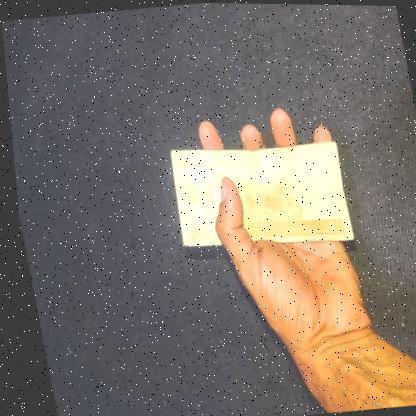five-back-vef: (161, 132, 352, 255)
